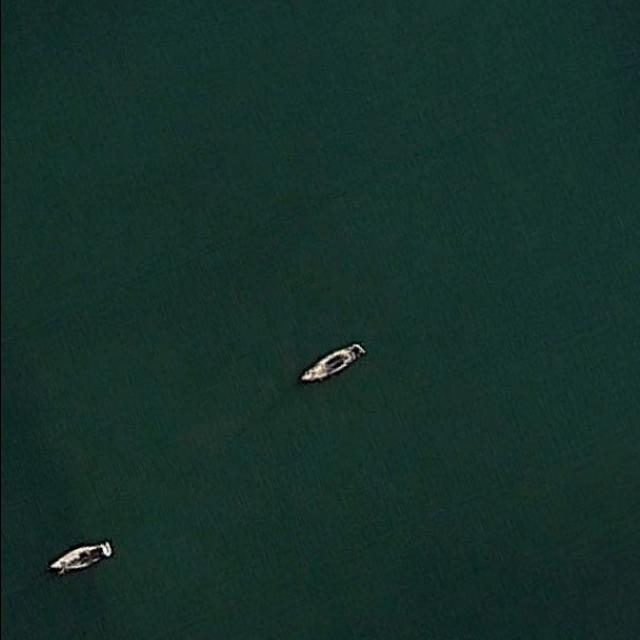ship: (299, 341, 367, 383), (49, 542, 114, 574)
